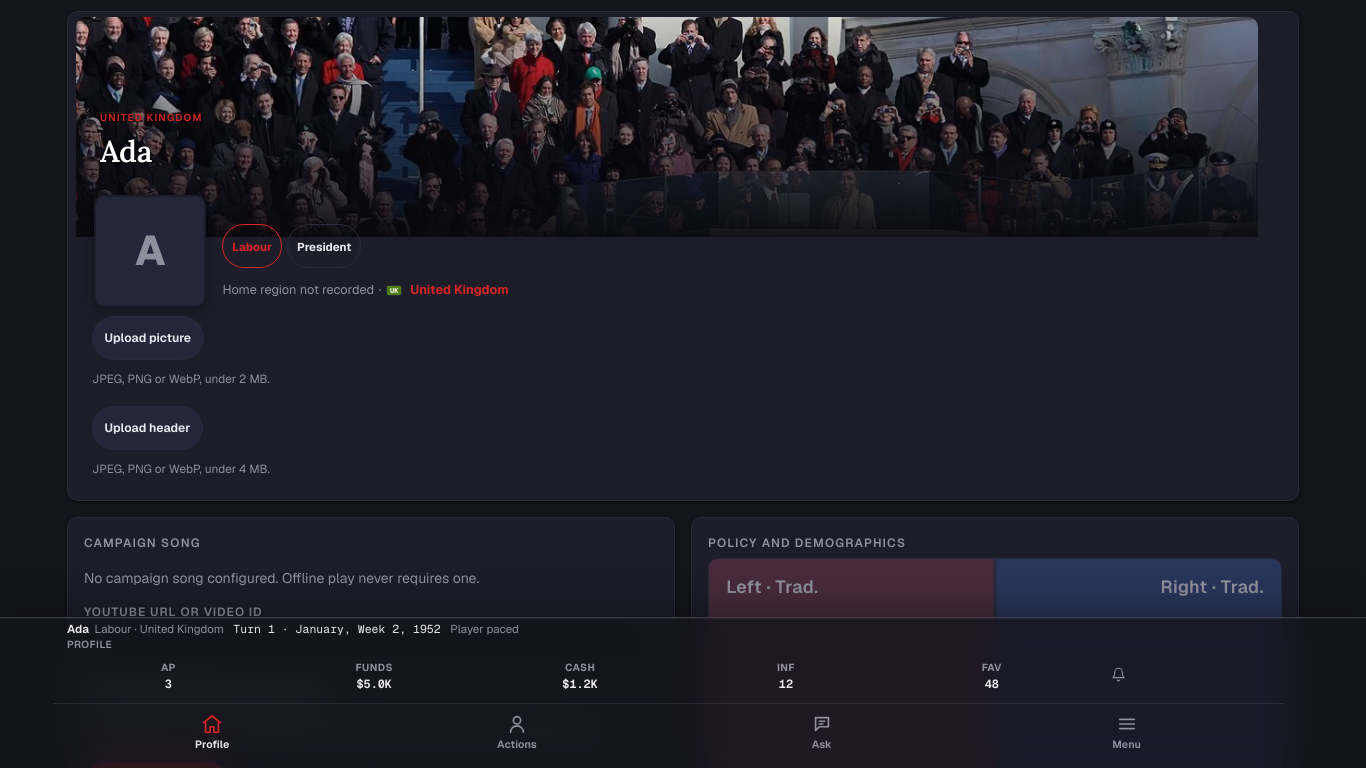
Test: HoS office-identity mark › HoS UK flow: Downing Street hero plus prime-minister mark
This screenshot has width=1366, height=768.
Click the button "Actions" at (517, 734), box [365,706,669,762]
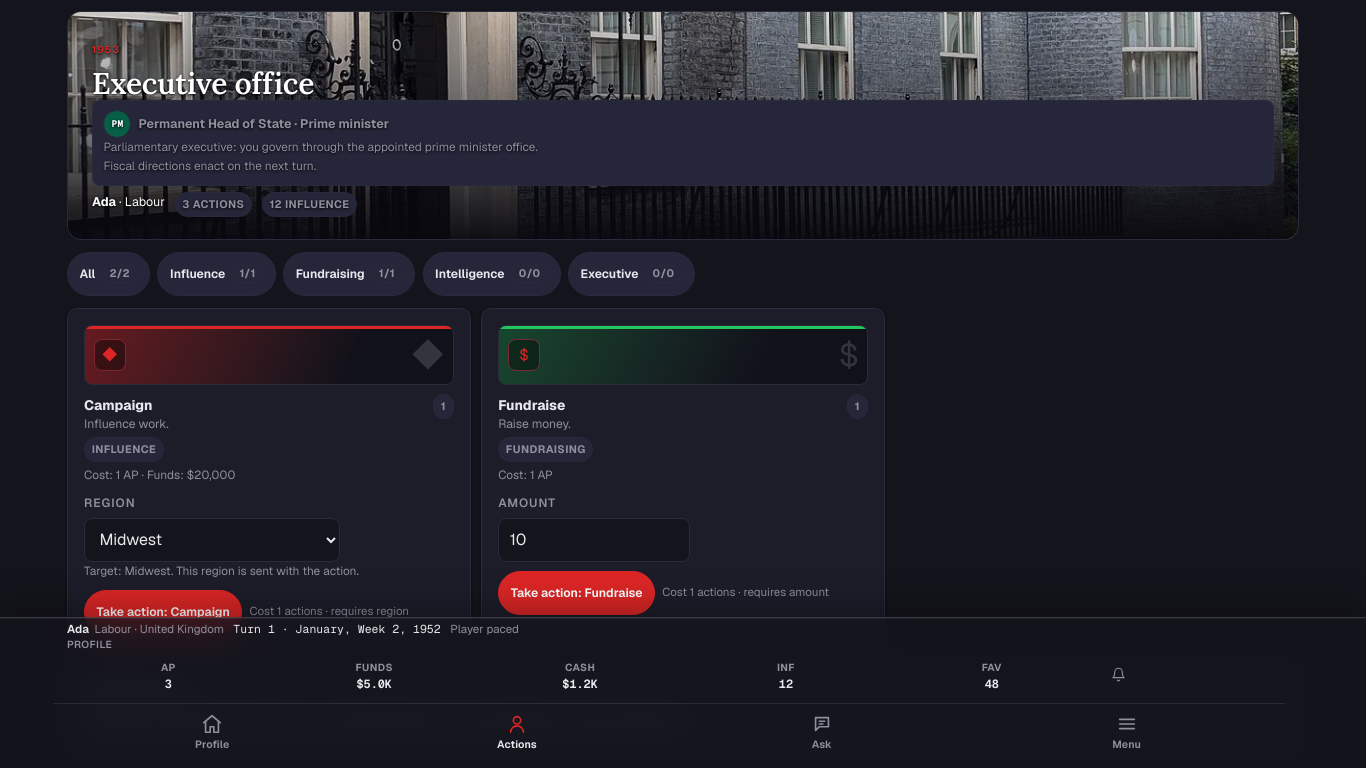
Result: the text "Permanent Head of State · Prime minister" is shown at [139,114,389,134]
Result: the text "Parliamentary executive: you govern through the appointed prime minister office." is shown at [103,139,538,154]
